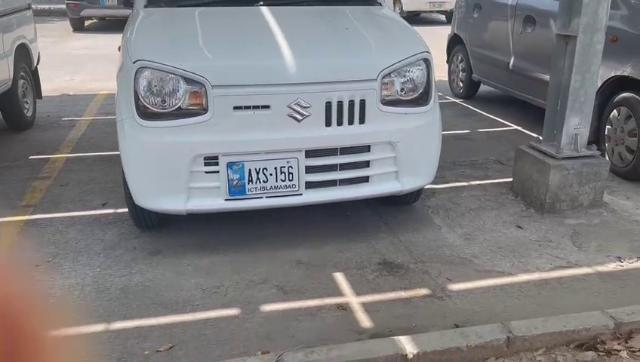plate: (227, 156, 301, 194)
